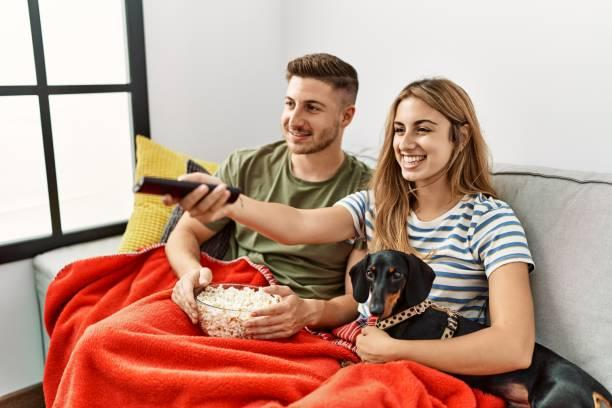blanket: (40, 242, 508, 408)
short sleeve shirt: (187, 139, 383, 303), (333, 185, 536, 327)
